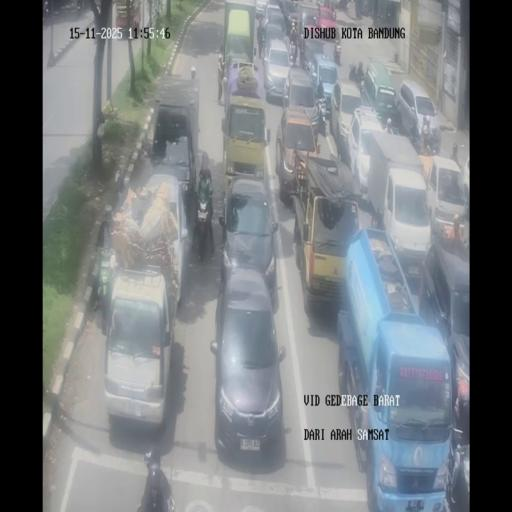car: (211, 270, 286, 464), (102, 266, 174, 433), (219, 178, 279, 302), (276, 106, 320, 202), (424, 156, 466, 238), (332, 79, 366, 159), (360, 60, 398, 126), (261, 37, 292, 102), (308, 53, 338, 117), (298, 12, 322, 58), (263, 4, 289, 43), (462, 150, 469, 227), (288, 12, 300, 38), (254, 0, 268, 19)
motorcycle: (444, 426, 470, 510), (93, 242, 116, 328), (137, 464, 175, 511), (192, 190, 215, 262), (420, 128, 434, 155), (288, 34, 298, 65), (258, 23, 266, 55), (333, 38, 342, 66), (217, 60, 223, 102), (383, 124, 399, 136), (42, 0, 50, 21), (75, 0, 85, 12), (359, 78, 365, 97), (332, 5, 337, 21)
truck: (338, 232, 452, 507), (291, 156, 359, 314), (362, 132, 427, 246), (149, 81, 201, 219), (222, 1, 256, 74), (113, 0, 139, 38)
